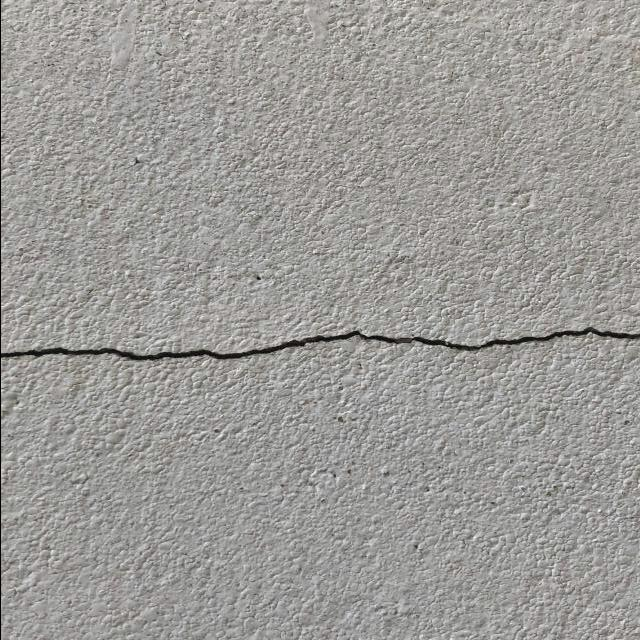SurfaceCrack: (0, 279, 639, 412)
